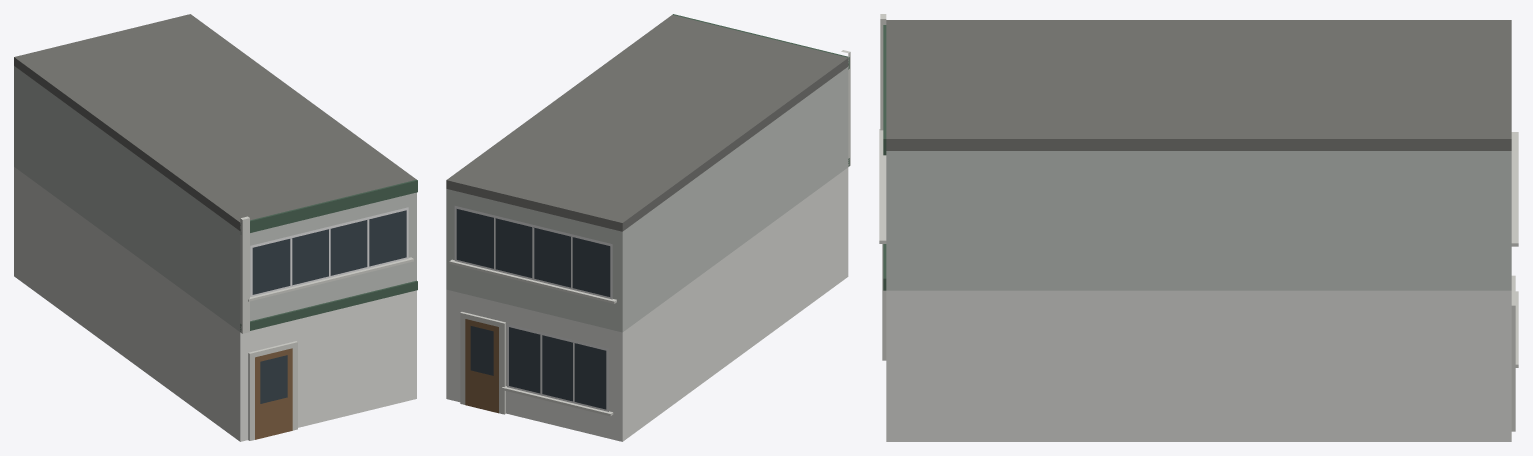
File: zo-ko-patio__green__2__flat__long__solid.glb
The picture shows the model from 3 angles, left to right: view 1: azimuth 30°, elevation 25°; view 2: azimuth 150°, elevation 25°; view 3: azimuth 270°, elevation 25°; orthographic projection. The views are drawn at different scales.
Parts seen in each view (by area): view 1: zo-ko-patio__green__2__flat__long__solid; view 2: zo-ko-patio__green__2__flat__long__solid; view 3: zo-ko-patio__green__2__flat__long__solid.
Boxes of the visible parts, x1,y1,x2,y2 form: zo-ko-patio__green__2__flat__long__solid: [14, 14, 417, 441]; zo-ko-patio__green__2__flat__long__solid: [446, 14, 850, 441]; zo-ko-patio__green__2__flat__long__solid: [879, 14, 1518, 441].
Bounding box in the file's own units: 4.7 × 5.69 × 10.67.
